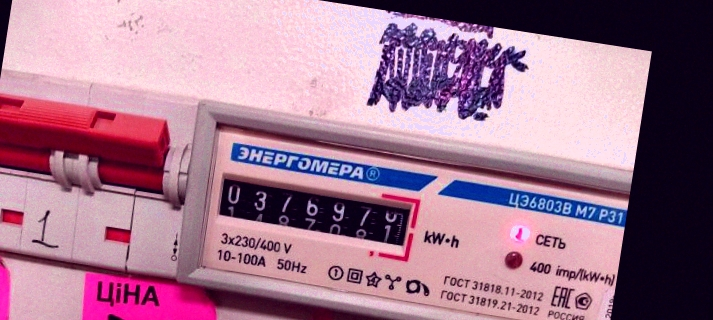0: (224, 181, 241, 205)
1: (378, 222, 393, 243)
3: (250, 188, 269, 212)
6: (302, 192, 321, 217)
7: (276, 189, 294, 214), (355, 203, 373, 228)
9: (328, 198, 346, 223)
screen: (203, 162, 423, 266)
